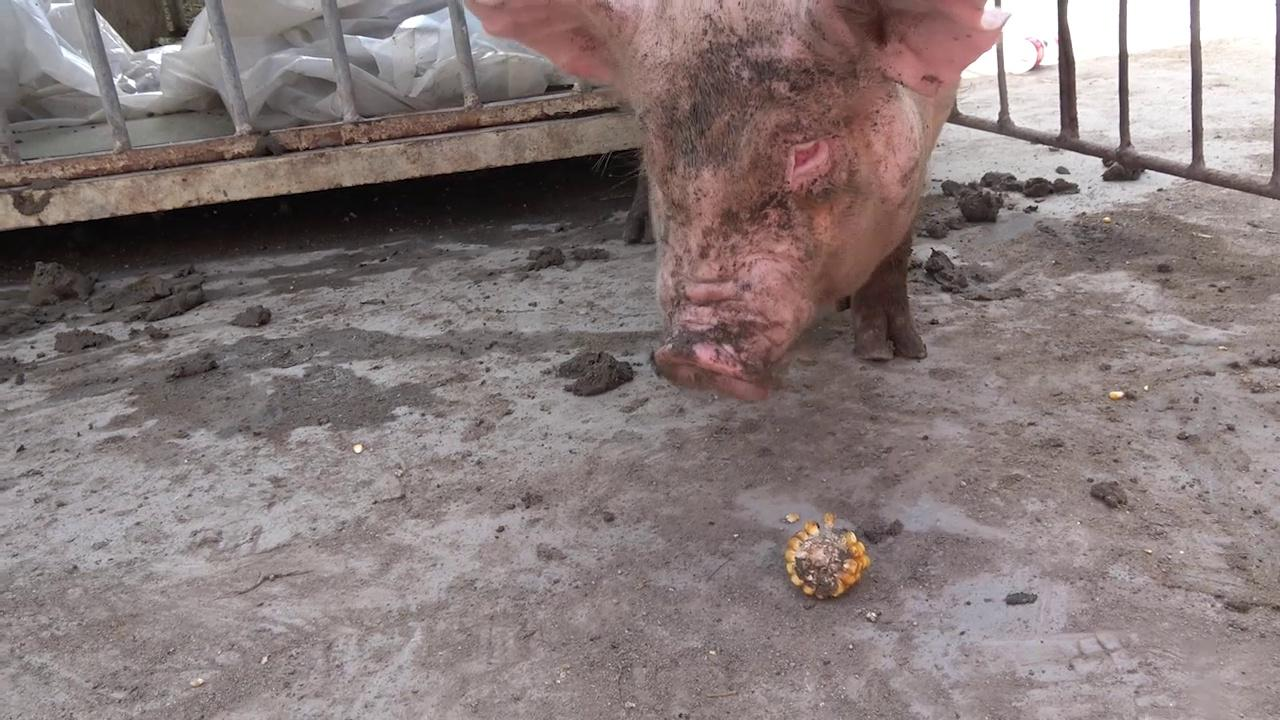Face: (451, 0, 1038, 418)
